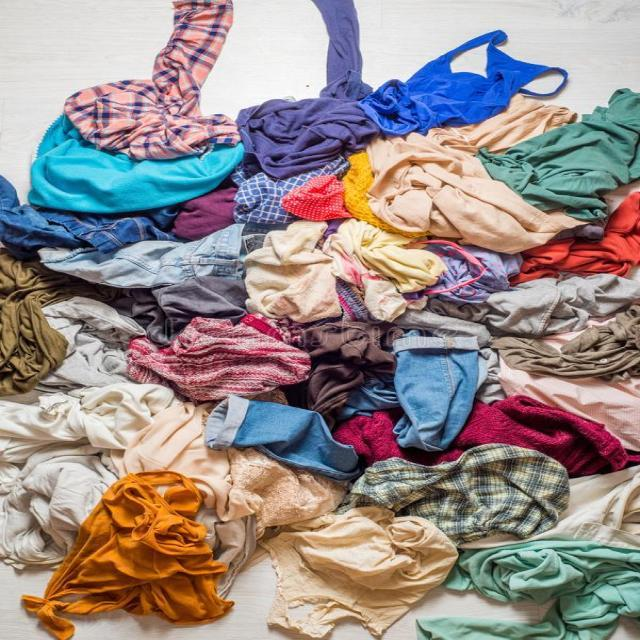clothes: (258, 14, 524, 240), (27, 464, 205, 624), (72, 0, 240, 151), (266, 506, 447, 640), (476, 78, 640, 224), (27, 109, 240, 218), (252, 229, 488, 320), (479, 268, 640, 386), (362, 446, 572, 535), (436, 531, 640, 622), (130, 308, 304, 400)
